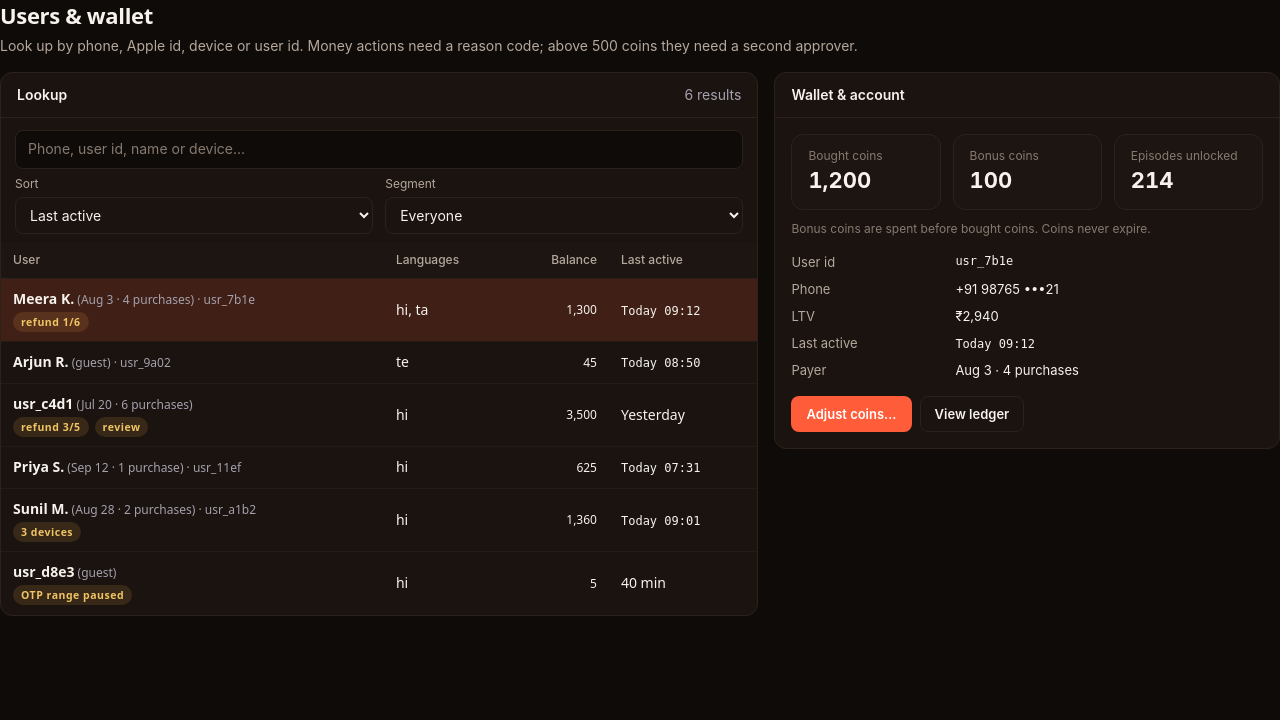
it: Users view — coin adjustment dialog (dual control) › disables the write button for an invalid amount (#028)
The image size is (1280, 720).
Expected: the text "Meera K." is shown, [13,289,74,308]
Click the button "Adjust coins…": x=852, y=414 [791,396,912,432]
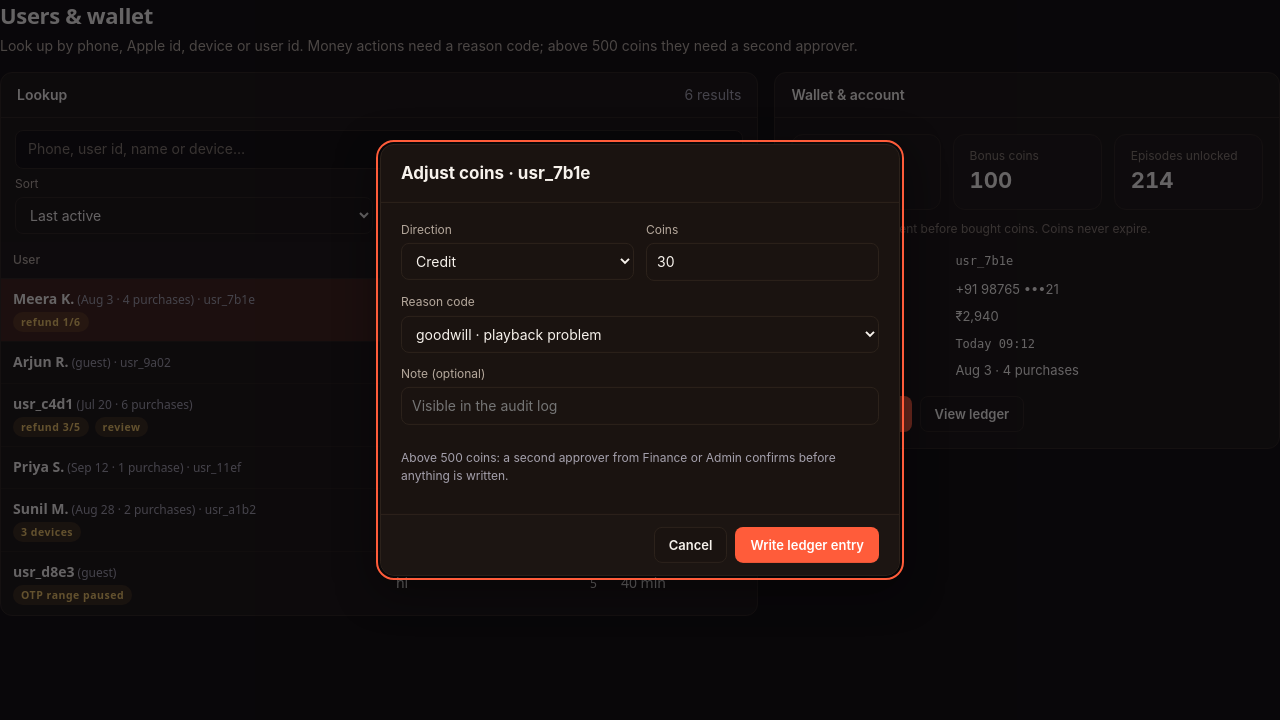
Replace the text in the number field labelled "Coins" with "-5": x=762, y=262 [646,243,879,281]
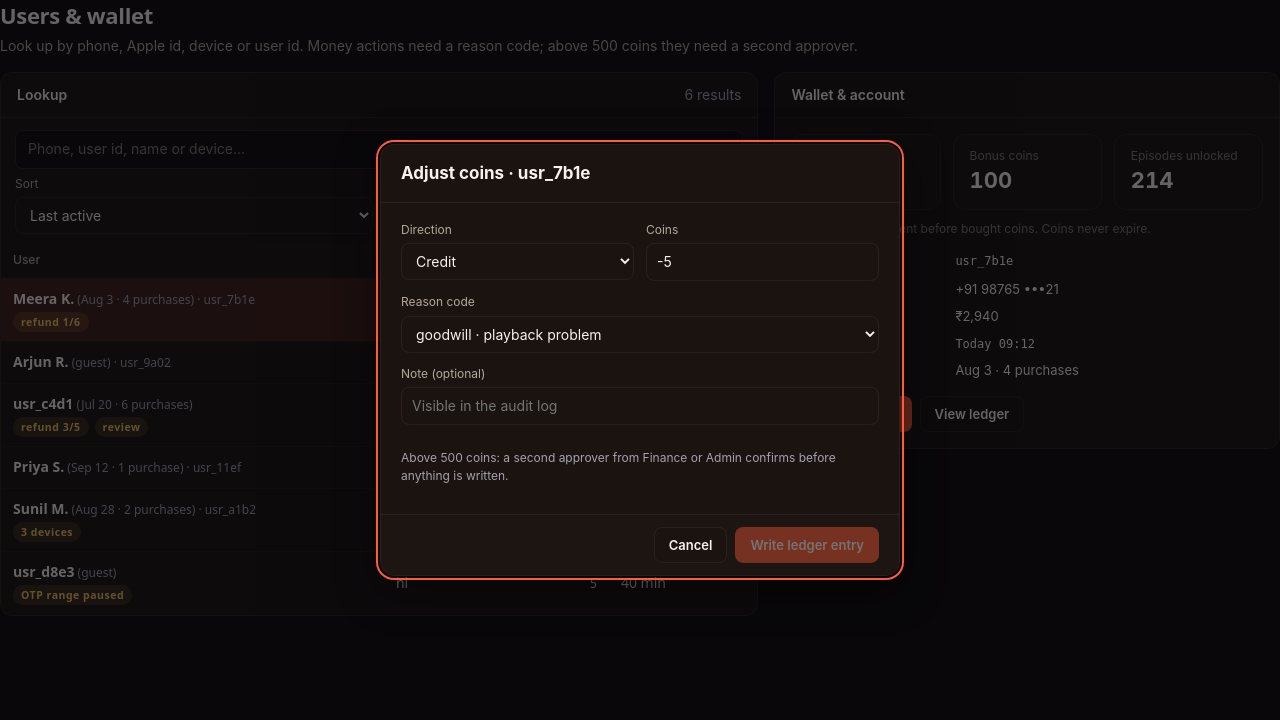
Expected: the button "Write ledger entry" is disabled, [735,527,879,563]
Replace the text in the number field labelled "Coins" with "30": x=762, y=262 [646,243,879,281]
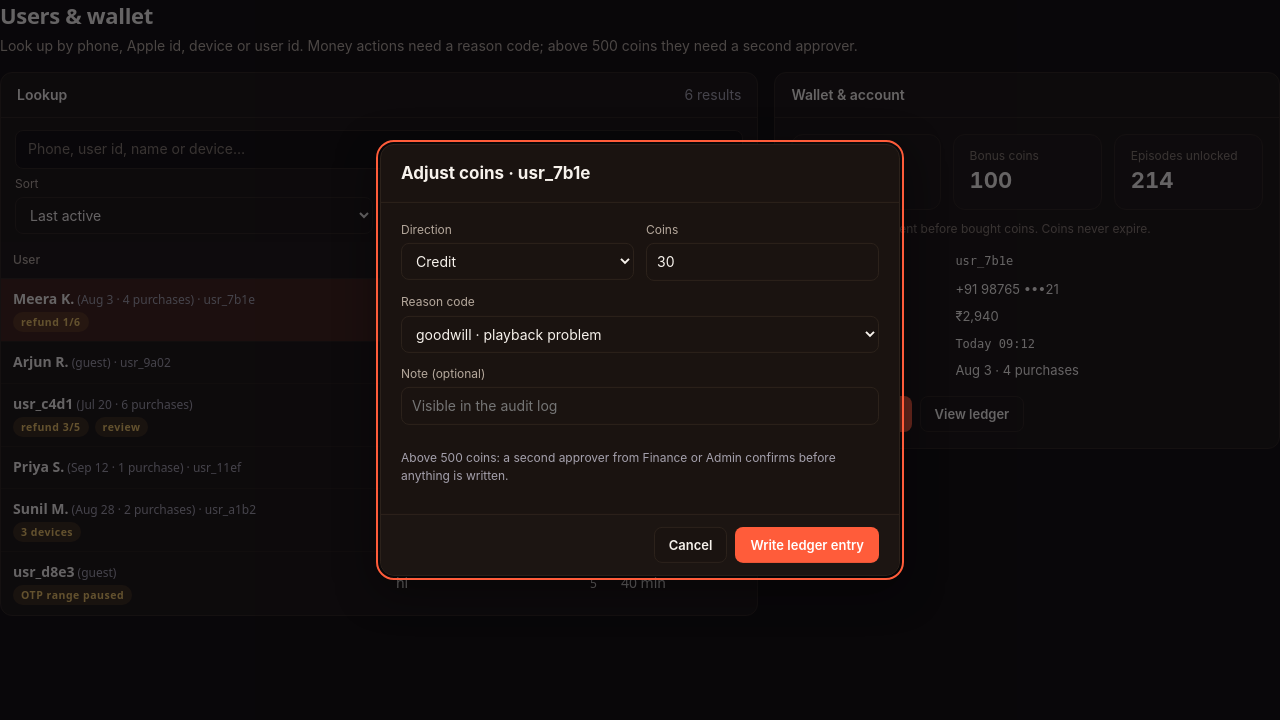
Expected: the button "Write ledger entry" is enabled, [735,527,879,563]
